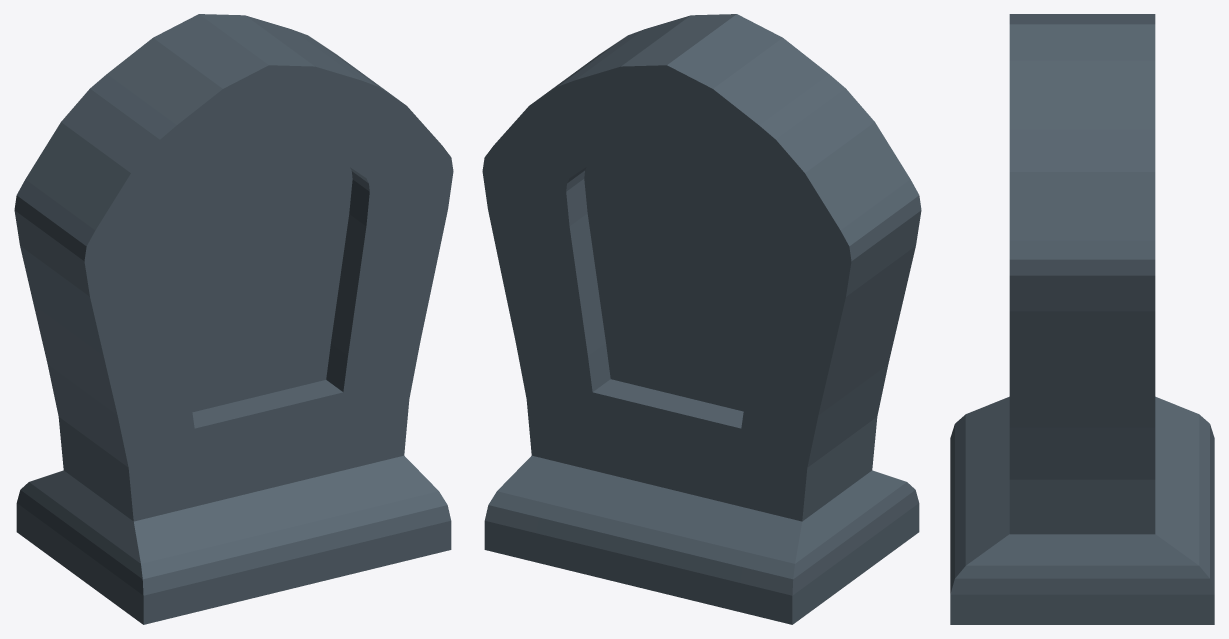
File: grave_v1.fbx
The picture shows the model from 3 angles, left to right: view 1: azimuth 30°, elevation 25°; view 2: azimuth 150°, elevation 25°; view 3: azimuth 270°, elevation 25°; orthographic projection. The views are drawn at different scales.
Parts seen in each view (by area): view 1: GRAVE1; view 2: GRAVE1; view 3: GRAVE1.
Boxes of the visible parts, box(x1,y1,x2,y2) form: GRAVE1: box(14, 14, 453, 624); GRAVE1: box(482, 14, 921, 624); GRAVE1: box(950, 14, 1214, 624).
Bounding box in the file's own units: 0.388 × 0.5039 × 0.2309.
